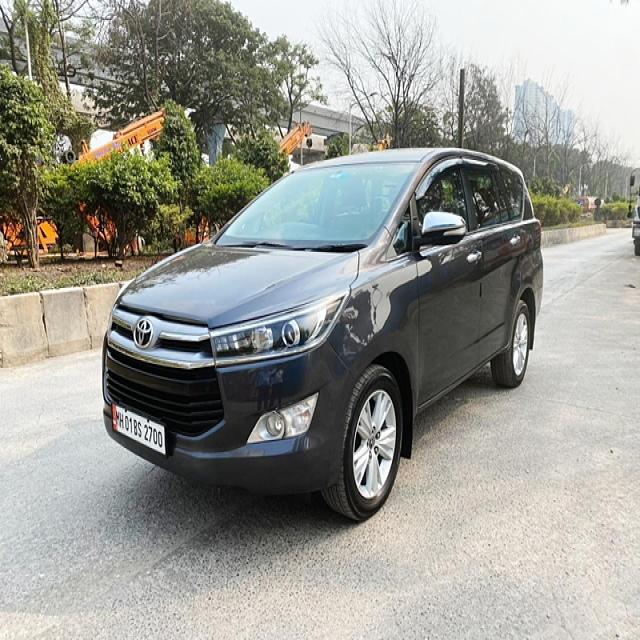light_vehicle: (101, 146, 545, 522)
